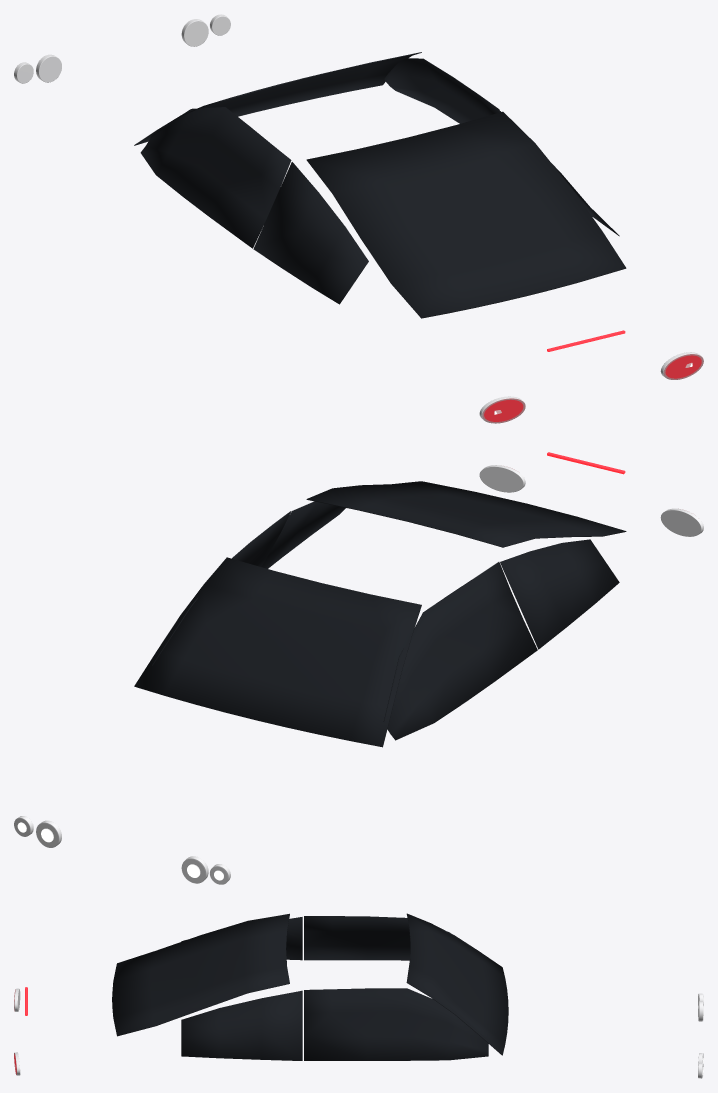
File: lighting_glass.glb
3 views of the same model, one above another, from view 1: azimuth 30°, elevation 25°; view 2: azimuth 150°, elevation 25°; view 3: azimuth 270°, elevation 25° (orthographic). The views are drawn at different scales.
Visible parts, largest first — view 1: Rear_Backlight_Glass, Door_Glass_R, Quarter_Glass_R, Windshield_Glass, Door_Glass_L, Taillight_Cover_SmokedRuby_R, Taillight_Cover_SmokedRuby_L, Taillight_Ruby_OLED_Ring_R; view 2: Windshield_Glass, Door_Glass_R, Rear_Backlight_Glass, Quarter_Glass_R, Quarter_Glass_L, Door_Glass_L, Taillight_Elliptical_Bezel_L, Taillight_Elliptical_Bezel_R; view 3: Rear_Backlight_Glass, Door_Glass_L, Windshield_Glass, Quarter_Glass_L, Door_Glass_R, Quarter_Glass_R.
Boxes of the visible parts, box(x1,y1,x2,y2) form: Rear_Backlight_Glass: box(306, 111, 626, 318); Door_Glass_R: box(140, 107, 291, 248); Quarter_Glass_R: box(253, 162, 368, 304); Windshield_Glass: box(134, 52, 421, 145); Door_Glass_L: box(384, 58, 499, 123); Taillight_Cover_SmokedRuby_R: box(482, 398, 525, 423); Taillight_Cover_SmokedRuby_L: box(664, 354, 703, 379); Taillight_Ruby_OLED_Ring_R: box(484, 399, 523, 421); Windshield_Glass: box(134, 557, 421, 747); Door_Glass_R: box(383, 562, 537, 740); Rear_Backlight_Glass: box(306, 481, 626, 547); Quarter_Glass_R: box(500, 539, 619, 649); Quarter_Glass_L: box(261, 501, 345, 568); Door_Glass_L: box(152, 511, 291, 665); Taillight_Elliptical_Bezel_L: box(479, 465, 525, 492); Taillight_Elliptical_Bezel_R: box(660, 508, 703, 536); Rear_Backlight_Glass: box(112, 913, 289, 1036); Door_Glass_L: box(304, 988, 488, 1060); Windshield_Glass: box(406, 913, 508, 1055); Quarter_Glass_L: box(181, 990, 302, 1060); Door_Glass_R: box(304, 916, 488, 960); Quarter_Glass_R: box(181, 917, 302, 960).
Size of the model in its own units: 1.7 by 0.7723 by 4.9.
